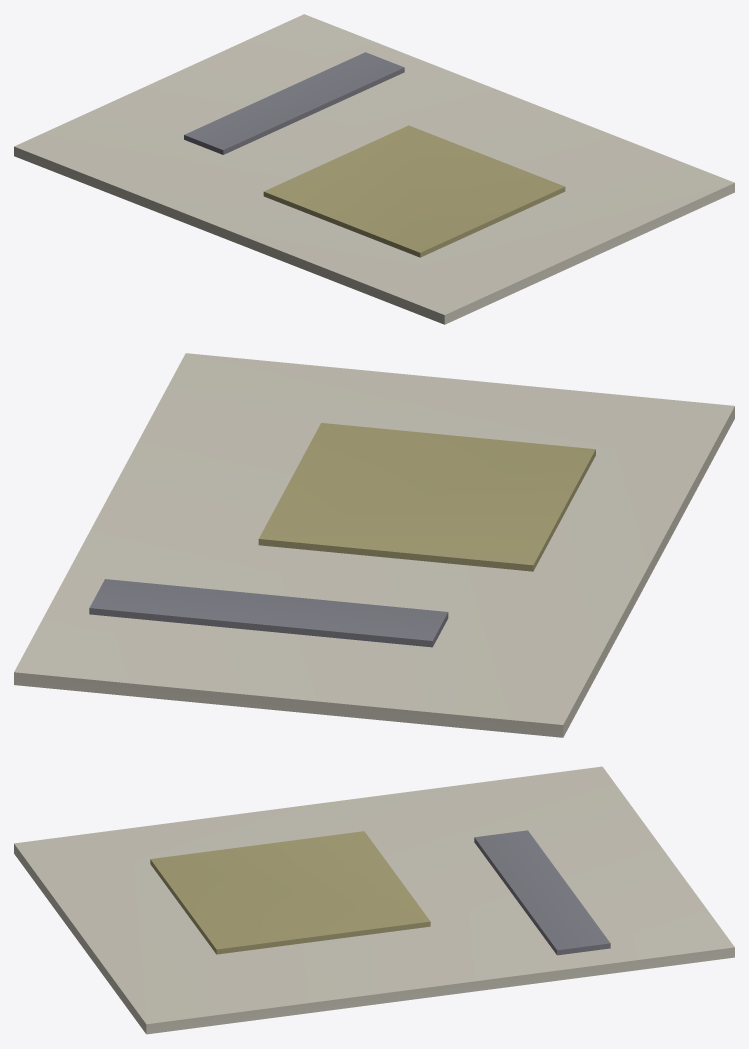
File: pamphlet.glb
3 views of the same model, one above another, from view 1: azimuth 30°, elevation 25°; view 2: azimuth 150°, elevation 25°; view 3: azimuth 270°, elevation 25° (orthographic). The views are drawn at different scales.
Parts seen in each view (by area): view 1: pamphlet; view 2: pamphlet; view 3: pamphlet.
Part boxes in pixels (bbox=[...]): pamphlet: bbox=[14, 14, 734, 324]; pamphlet: bbox=[14, 353, 734, 737]; pamphlet: bbox=[14, 766, 734, 1034].
Size of the model in its own units: 0.2179 by 0.006 by 0.2575.
